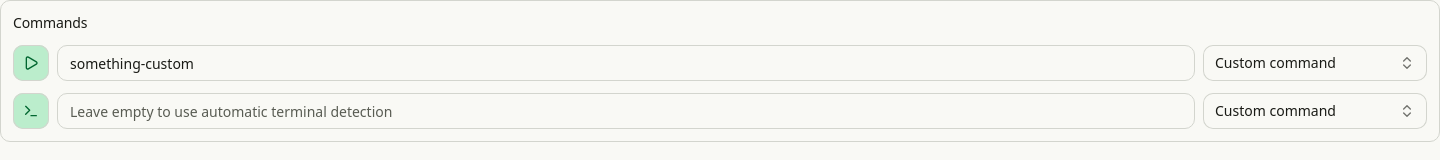
Scenario: CommandsSettingsForm › updates play template when typing a matching command
The image size is (1440, 160).
Expected: the button with aria-label "select play groove terminal template" reads "Custom command", x1=1203 y1=45 x2=1427 y2=81
Replace the text in the 1st field with "__groove_terminal__" at x=626, y=63, box x1=57 y1=45 x2=1195 y2=81
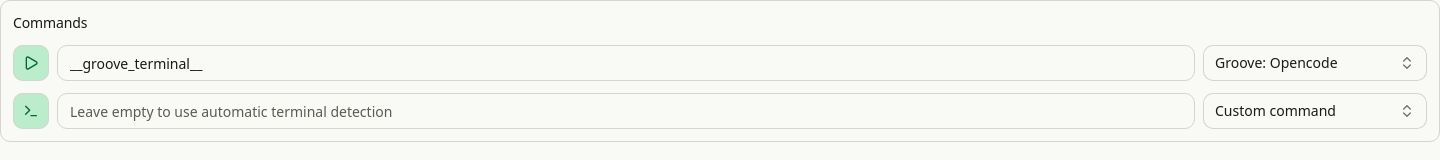
Expected: the button with aria-label "select play groove terminal template" reads "Groove: Opencode", x1=1203 y1=45 x2=1427 y2=81
